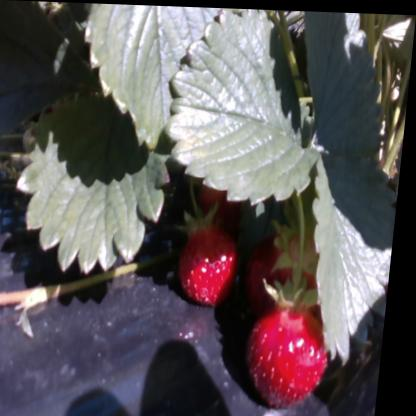ripe: (245, 288, 345, 403), (179, 213, 248, 305), (274, 216, 336, 292), (198, 144, 258, 208)
